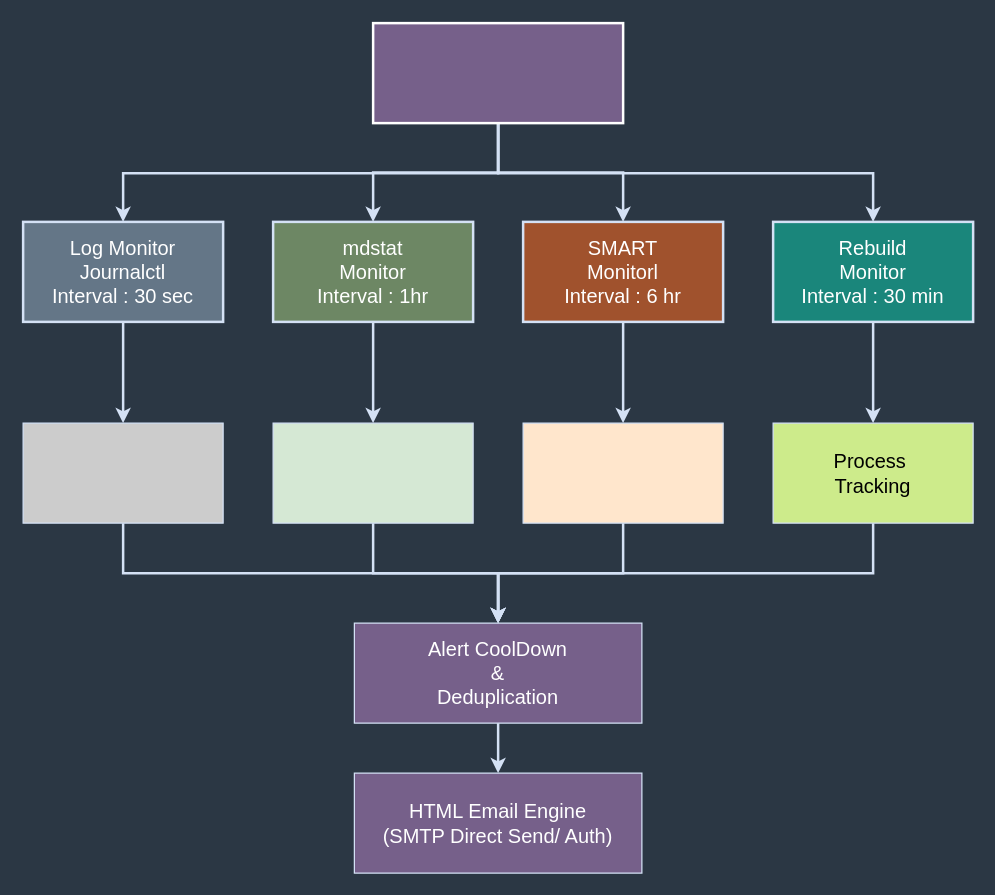
This 995x895 diagram has some shape labels left out. Each missing label, with the centre of its shape:
"Attribute Analysis" goes at point (622, 472).
"gslmon daemon" goes at point (497, 72).
"Pattern Match & Classify" goes at point (122, 472).
"State Change Detection" goes at point (372, 472).
